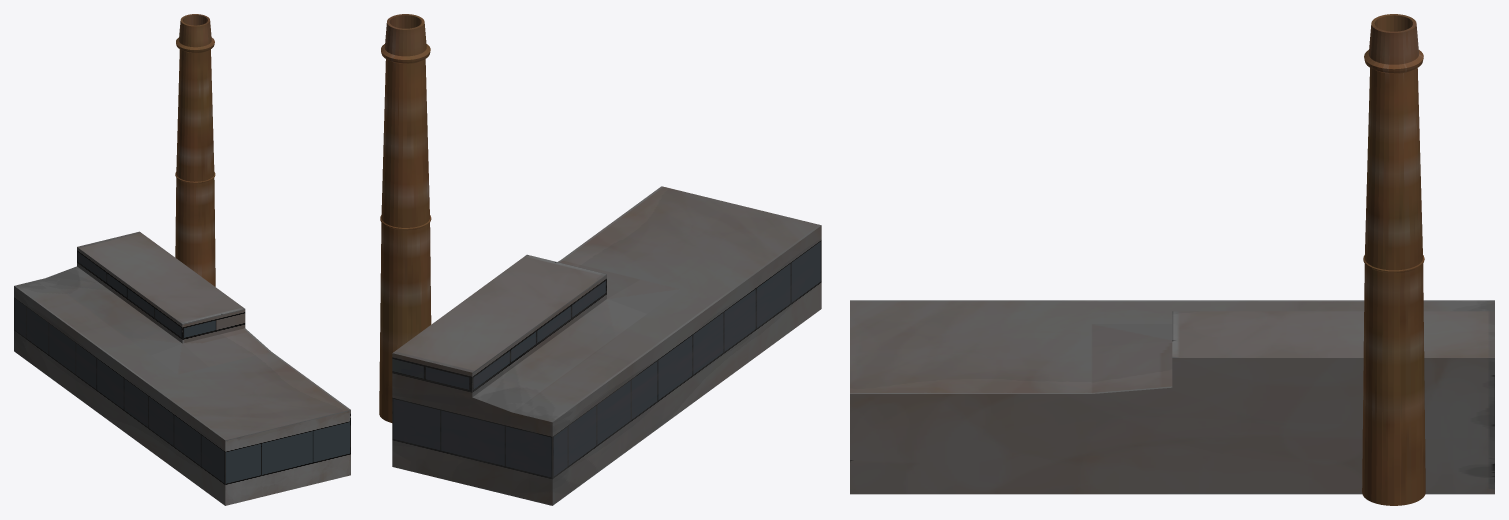
File: kotelnay.fbx
3 renders of one model, left to right at view 1: azimuth 30°, elevation 25°; view 2: azimuth 150°, elevation 25°; view 3: azimuth 270°, elevation 25°, orthographic. The views are drawn at different scales.
Visible parts, largest first — view 1: Cube, Цилиндр; view 2: Cube, Цилиндр; view 3: Cube, Цилиндр.
Boxes of the visible parts, bbox=[...] form: Cube: bbox=[14, 231, 350, 505]; Цилиндр: bbox=[175, 14, 215, 286]; Cube: bbox=[392, 186, 821, 505]; Цилиндр: bbox=[379, 14, 431, 422]; Cube: bbox=[850, 300, 1494, 494]; Цилиндр: bbox=[1362, 14, 1425, 505].
Bounding box in the file's own units: 756 × 1387 × 1662.
Materials: 2 (2 with a texture image).
